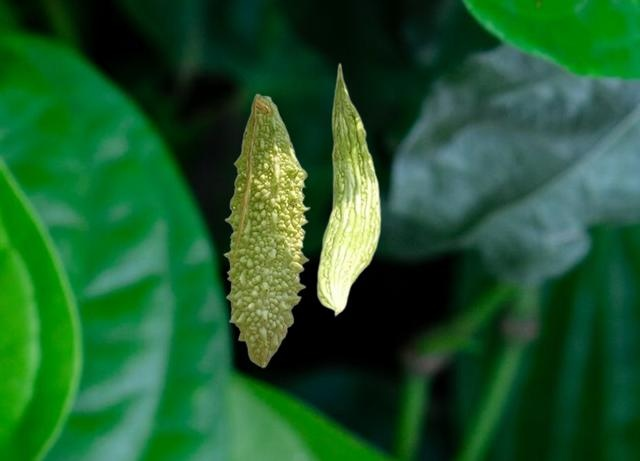ampalaya: (221, 93, 310, 369), (316, 62, 381, 319)
